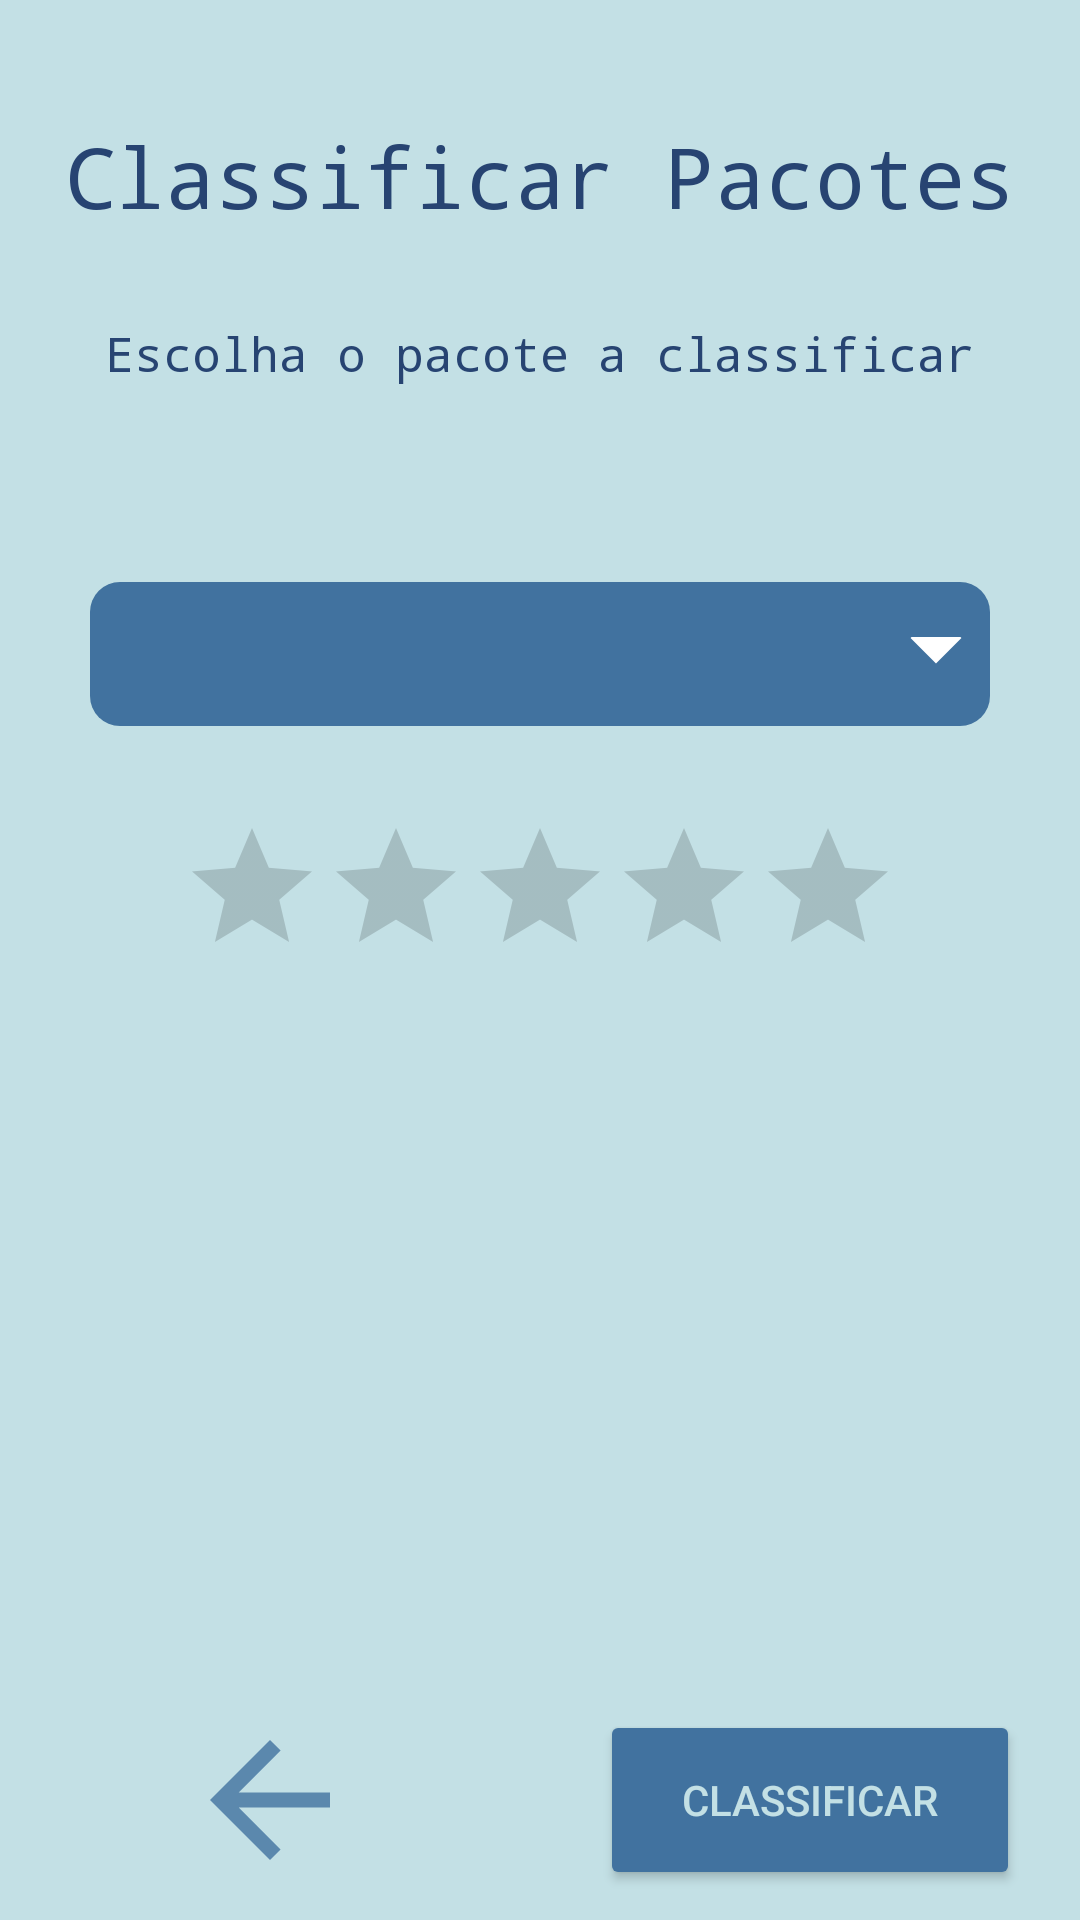

Named icons in this screenshot (1080×1920) and their bounding boxes, [x1,y1,x2,y2]:
arrow back: [210,1740,330,1860]
